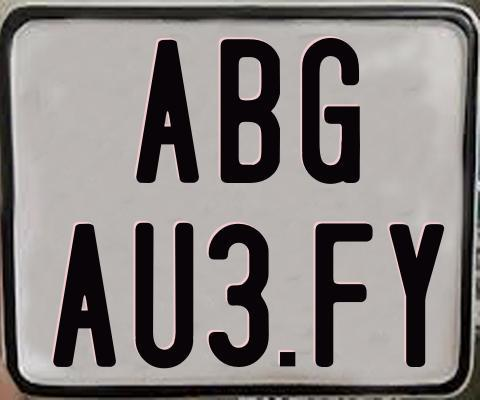3: (207, 223, 269, 368)
A: (136, 38, 203, 186), (53, 222, 116, 365)
B: (221, 39, 283, 183)
F: (314, 220, 373, 369)
G: (302, 37, 363, 183)
U: (135, 222, 197, 373)
Y: (388, 222, 448, 369)
